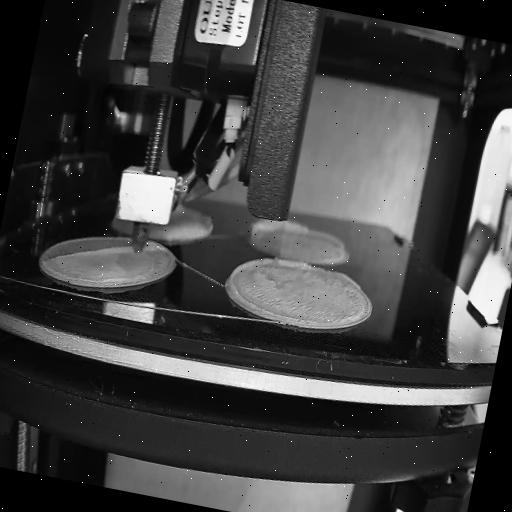over_extrusion: (224, 248, 313, 324), (52, 232, 136, 278), (246, 208, 312, 250), (323, 264, 364, 294), (312, 224, 350, 252)
